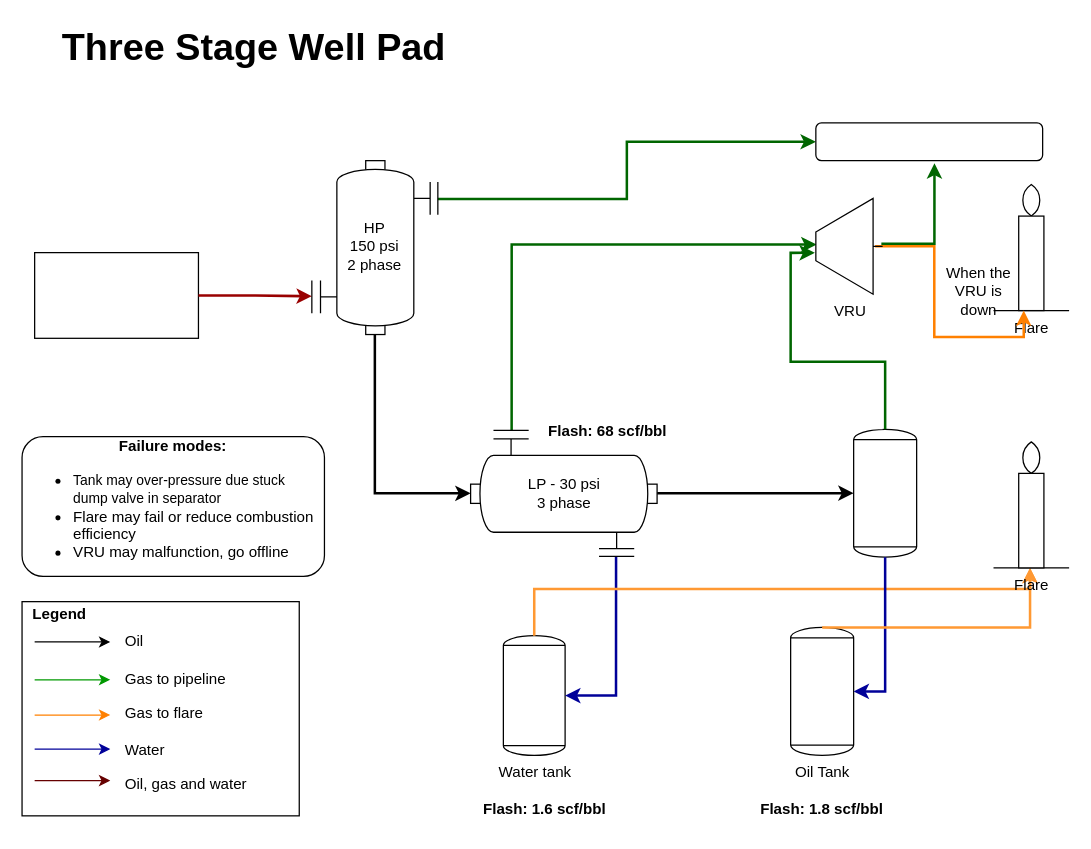
Some shapes in this 1091 by 849 pixel diagram are drawn without their labels. The centre of each missing label's shape, as x and y in pixels:
"Flash: 44 scf/bbl" belongs at (819,410).
"Pipeline-150 psi" belongs at (929,141).
"VRT 1 psi" belongs at (884,492).
"Well Plunger Lift 1 bbl/lift 39.3 MSCF/bbl 57.6 API" belongs at (115,294).
